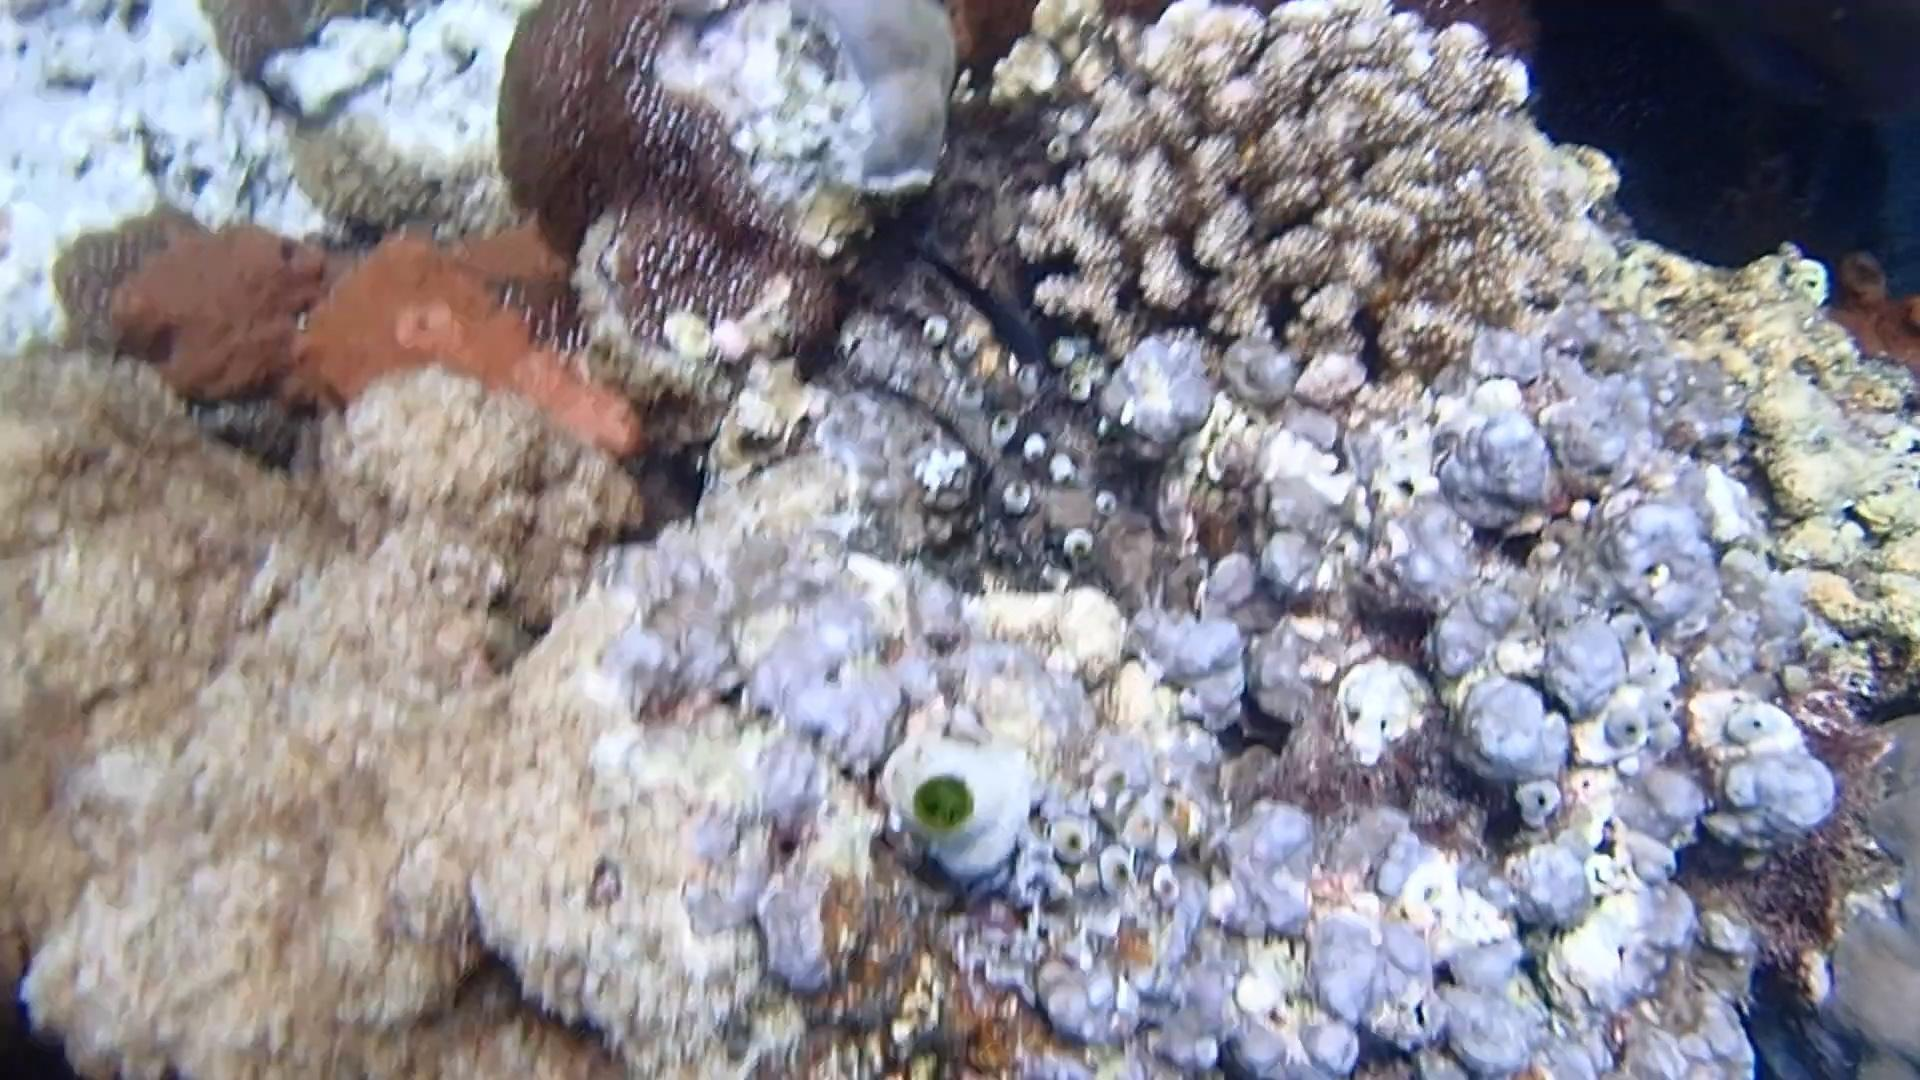Dark Fish: (911, 243, 1054, 375)
